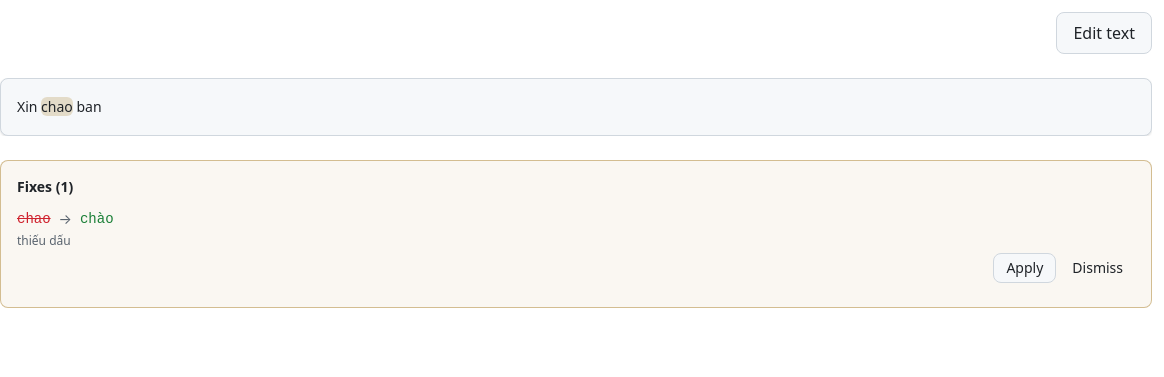
toggle Soạn thảo → text editor; toggle off → article again
This screenshot has width=1164, height=377.
Expected: the element with test id "extraction-text" is shown, top-left (0, 78), bottom-right (1152, 136)
Click the button with test id "btn-edit-text" at (1104, 33), box top-left (1056, 12), bottom-right (1152, 54)
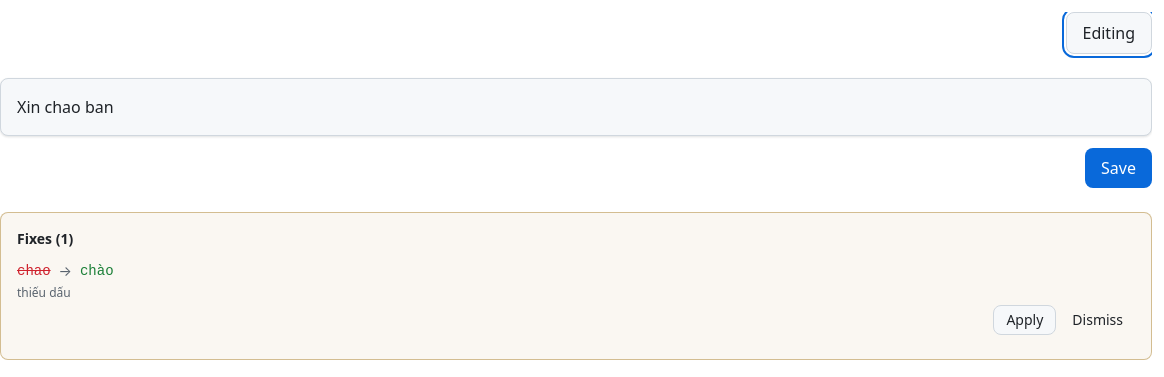
Now the element with test id "extraction-text" is gone
Click the button with test id "btn-edit-text" at (1109, 33), box top-left (1066, 12), bottom-right (1152, 54)
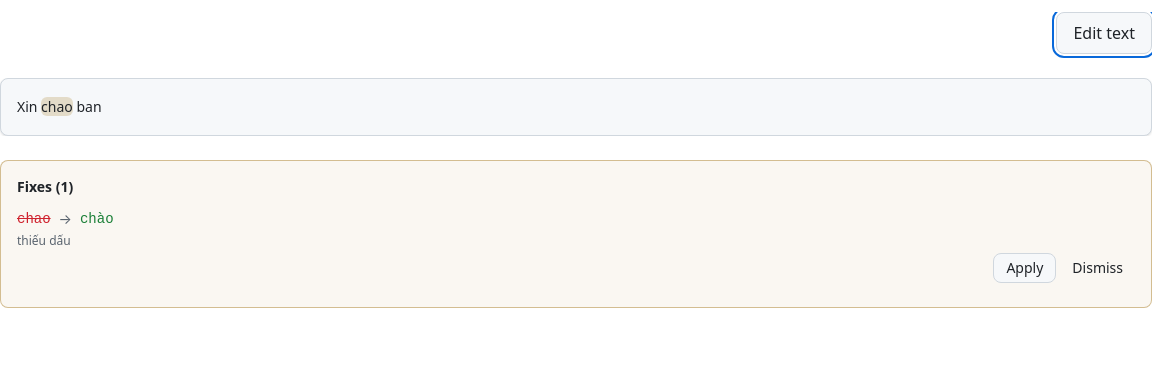
Expected: the element with test id "extraction-text" is shown, top-left (0, 78), bottom-right (1152, 136)
Now the element with test id "text-editor" is gone
